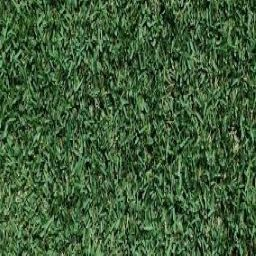grass: (4, 5, 249, 249)
